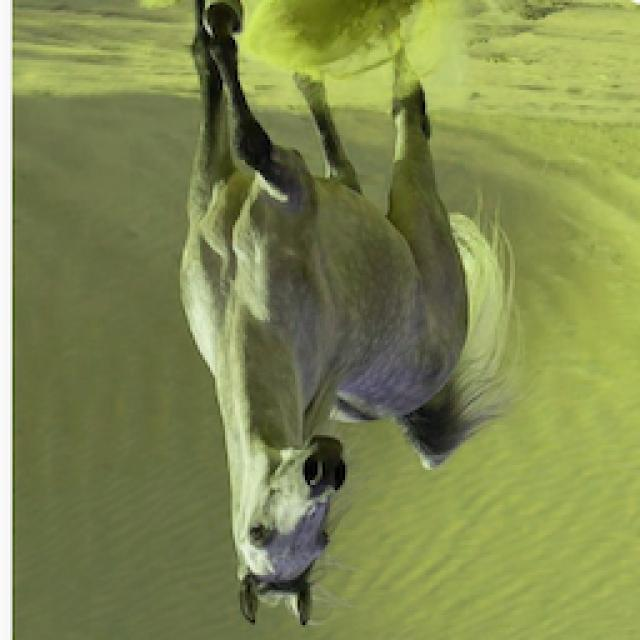Horse: (165, 2, 525, 632)
